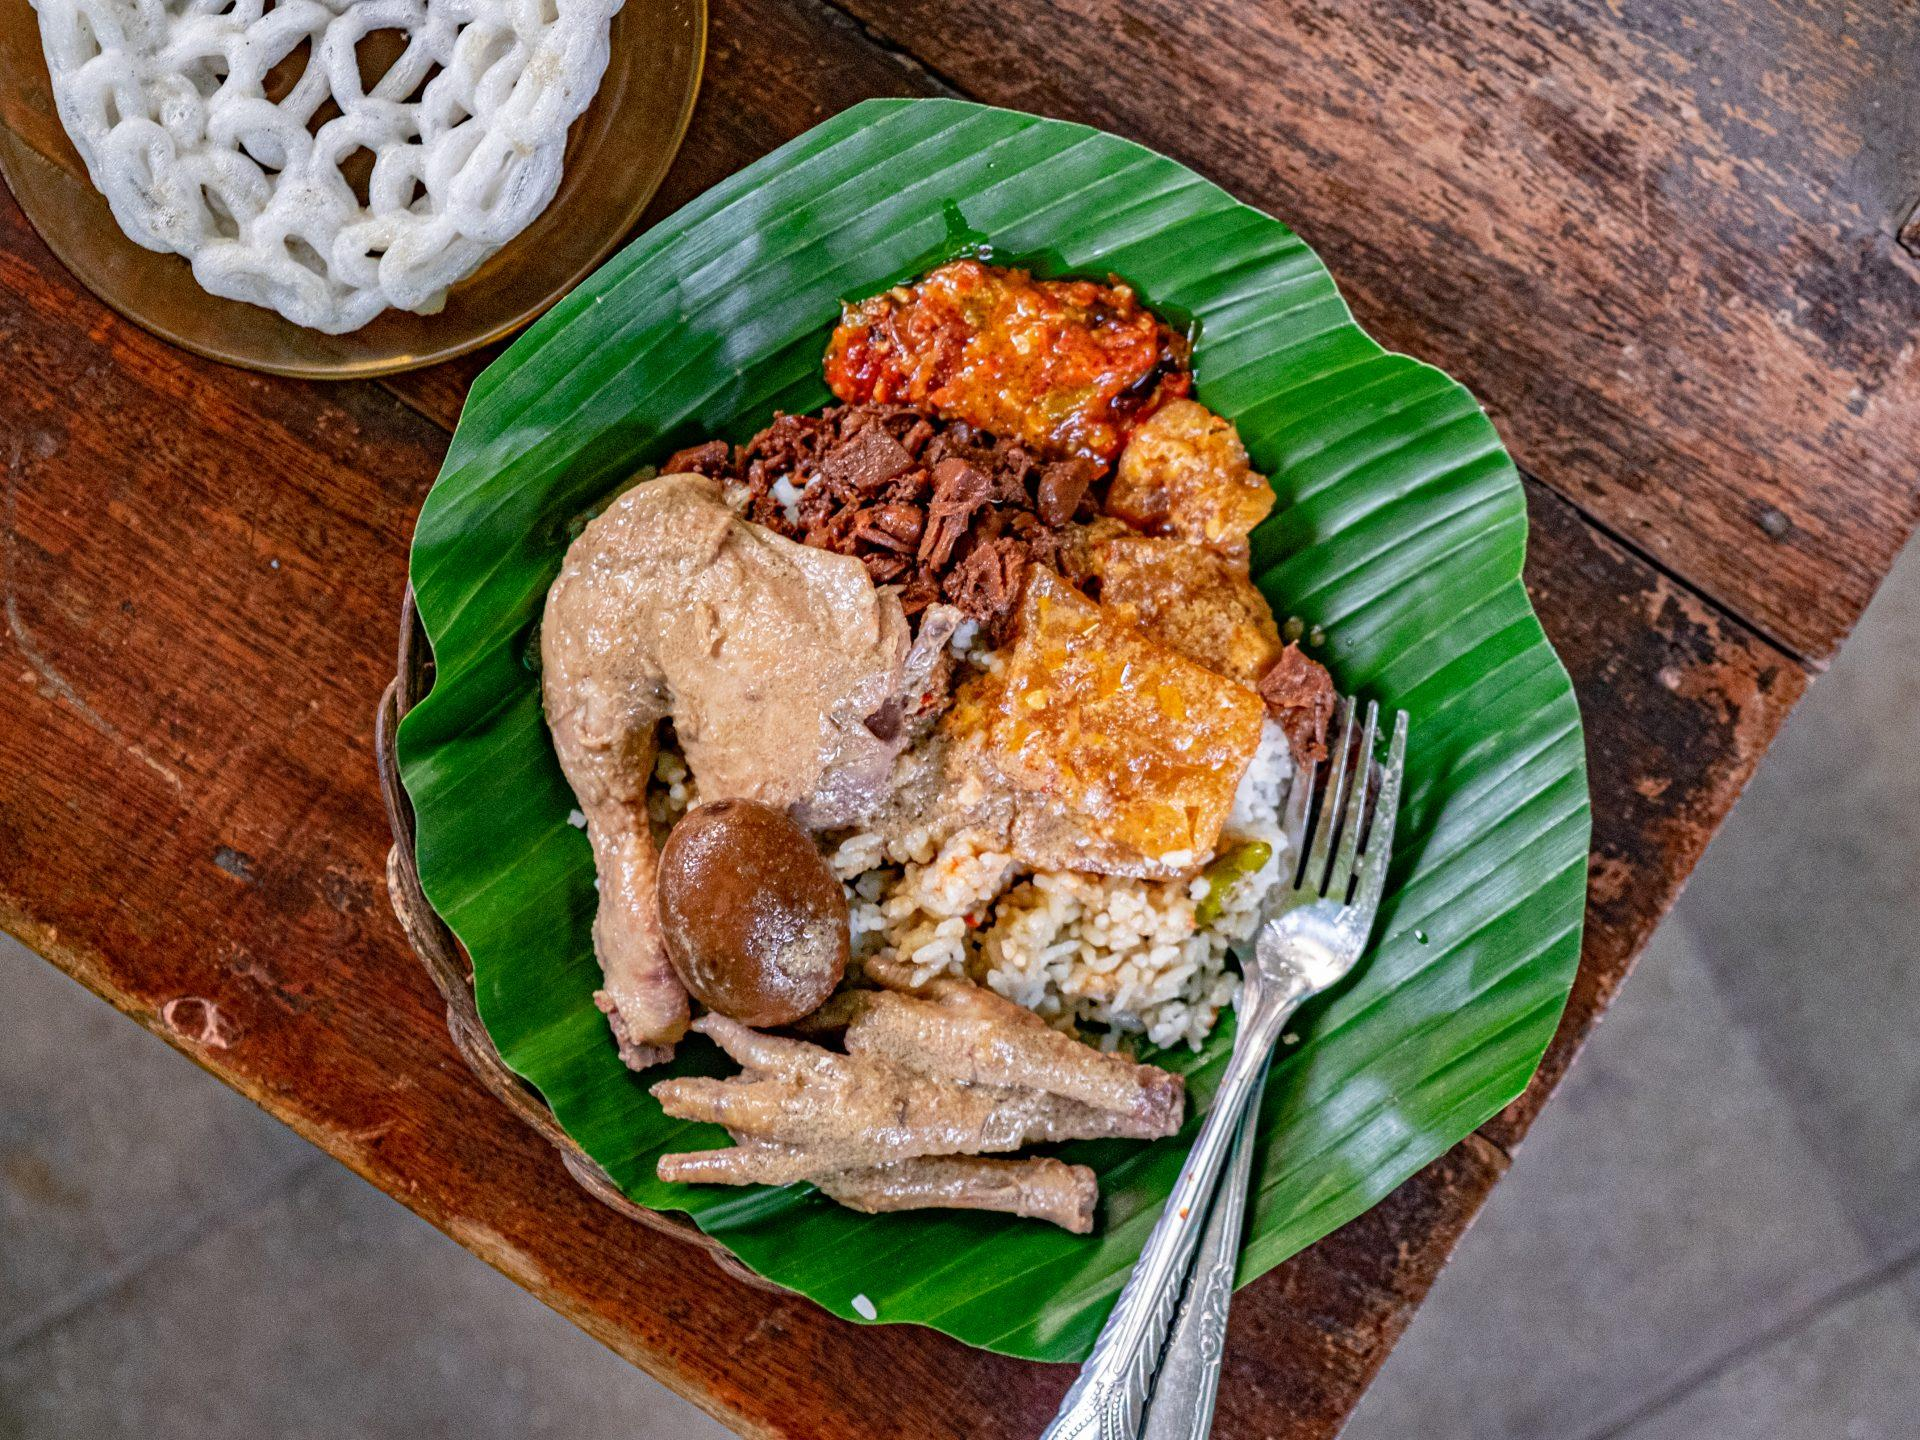gudeg: (540, 275, 1336, 1240)
